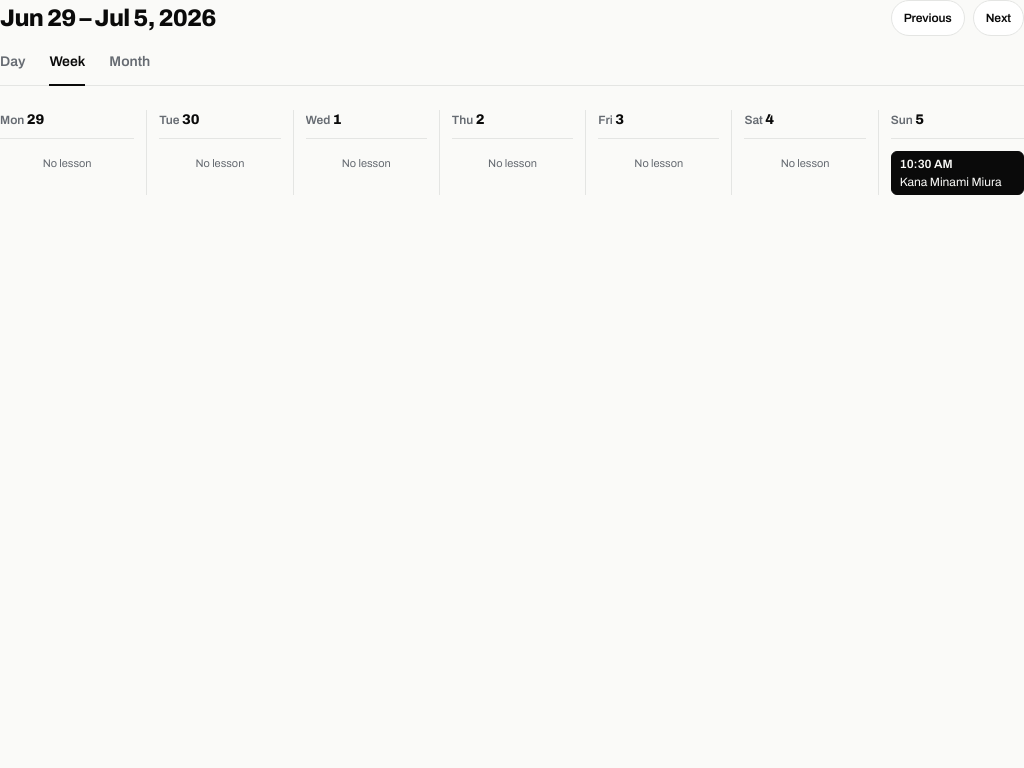
Test: DashboardScheduleCalendar › an unpaid reservation offers the student the way to finish paying
Click the button with test id "schedule-chip": [957, 173] box [891, 151, 1023, 195]
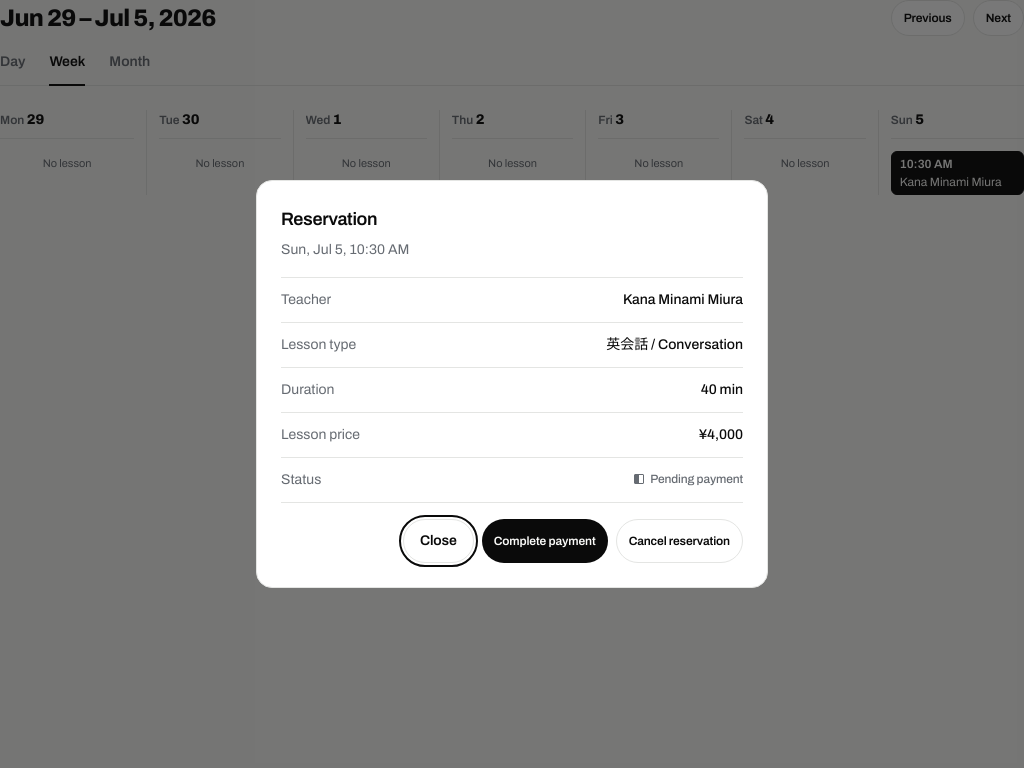
expect the button "Complete payment" is shown: met, box [482, 519, 608, 563]
